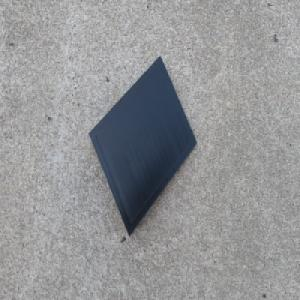PlasticPart: (89, 56, 196, 236)
